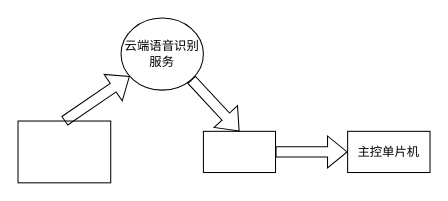
The diagram is 448 pixels wide and 201 high, and some of its shapes have lost their labels. The shapes that lost their labels are listed below. From the top down, each one's centre as x and y in pixels, then its label:
point (64, 151): 手机微信公众号“如易科技”
point (239, 151): ESP8266
